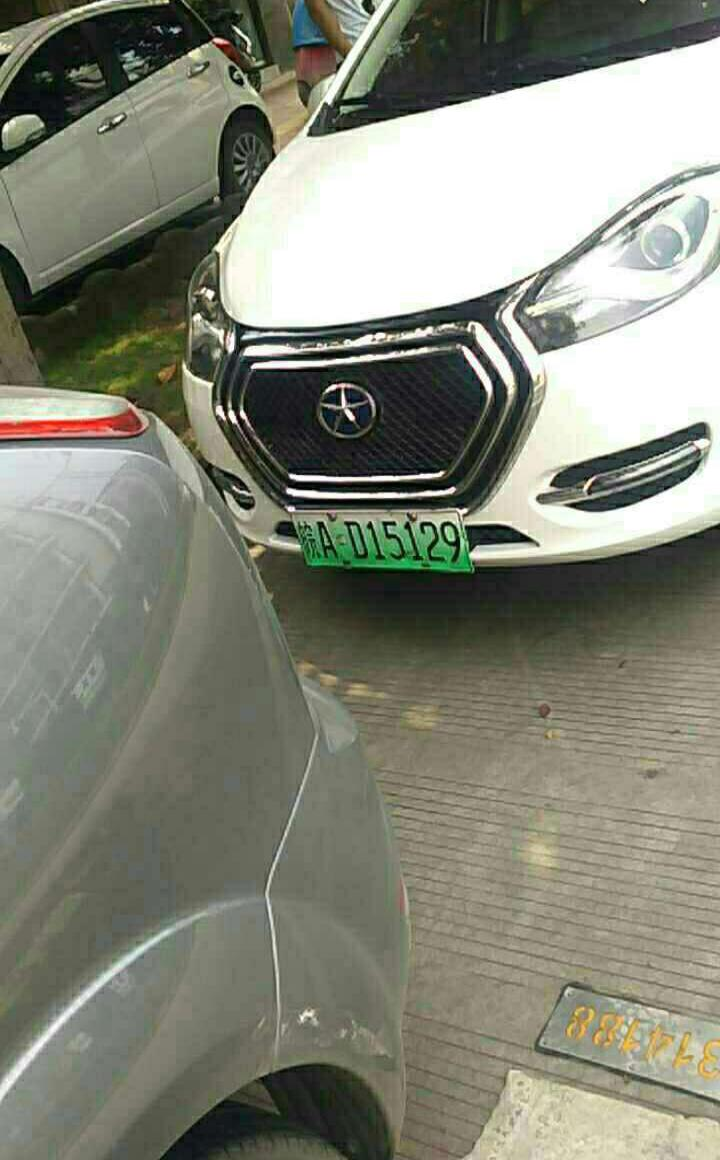car_id: (291, 505, 473, 574)
